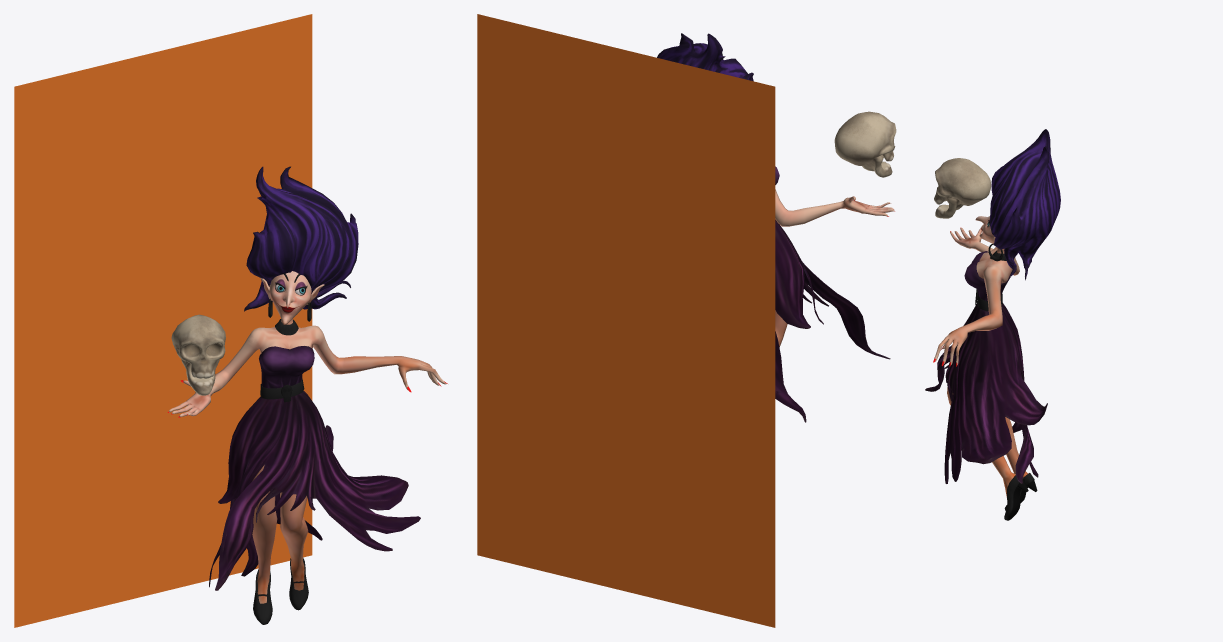
File: HÄXA.glb
The picture shows the model from 3 angles, left to right: view 1: azimuth 30°, elevation 25°; view 2: azimuth 150°, elevation 25°; view 3: azimuth 270°, elevation 25°; orthographic projection. The views are drawn at different scales.
Parts seen in each view (by area): view 1: mesh_id1, node_id30; view 2: mesh_id1, node_id30; view 3: node_id30.
Boxes of the visible parts, box(x1,y1,x2,y2) form: mesh_id1: box(14, 14, 312, 627); node_id30: box(167, 166, 447, 624); mesh_id1: box(477, 14, 775, 627); node_id30: box(657, 33, 896, 422); node_id30: box(925, 129, 1060, 520).
Bounding box in the file's own units: 0.365 × 0.634 × 0.3366.
Materials: 2 (1 with a texture image).
